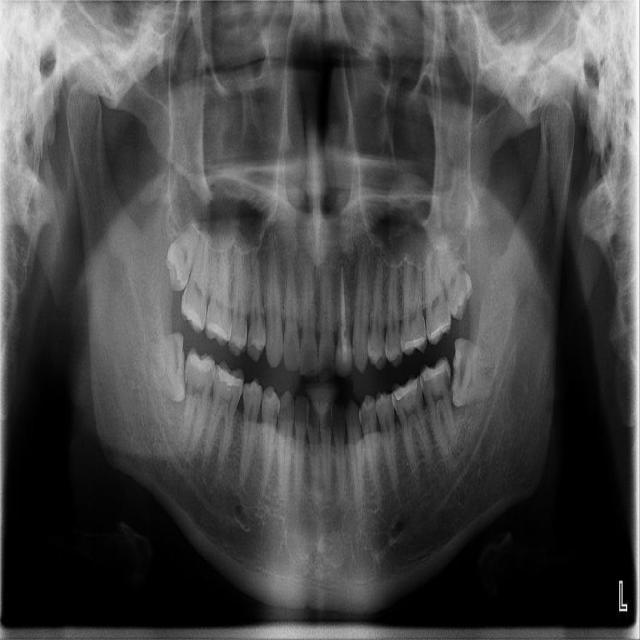3M ESPE Implant: (157, 212, 203, 297)
52: (169, 285, 218, 336), (175, 345, 226, 392), (411, 353, 461, 400), (385, 371, 431, 420), (415, 301, 461, 348), (195, 308, 238, 349), (395, 316, 431, 359), (213, 360, 245, 402), (335, 340, 354, 377)
73: (598, 565, 602, 574)
BioHorizons Implant: (423, 244, 452, 348)
BioLife Implant: (429, 231, 483, 321)
Biomet 3i Implant: (449, 336, 496, 410)
Blue Sky Bio Implant: (417, 354, 460, 458)
Caries: (178, 229, 215, 336)
Implant: (181, 346, 217, 457)
Keystone Dental Implant: (143, 329, 188, 402)
